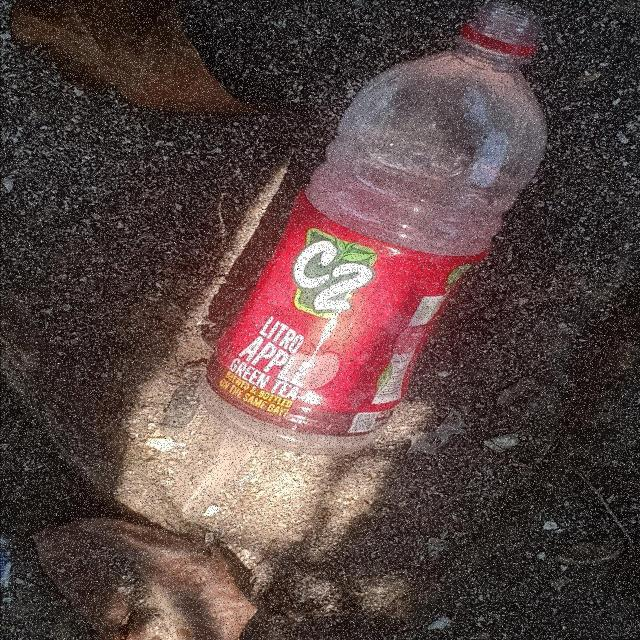plastic_waste: (197, 1, 550, 459)
